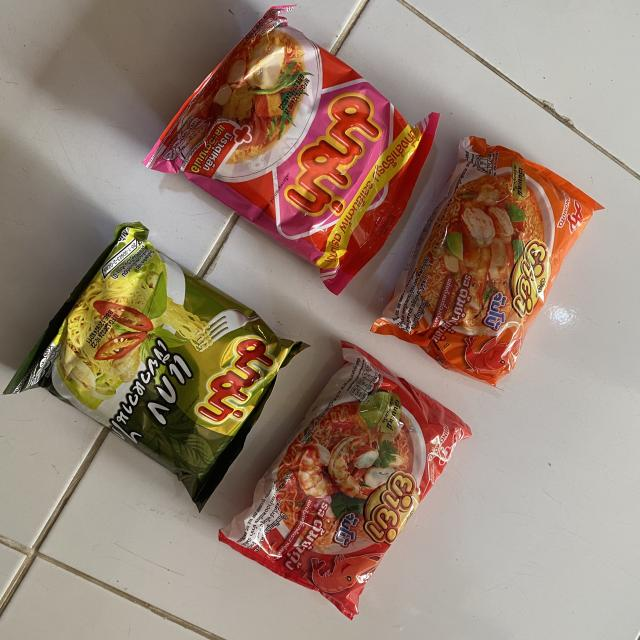plastik: (5, 222, 305, 508), (144, 5, 439, 294), (219, 341, 471, 619), (371, 138, 602, 385)
